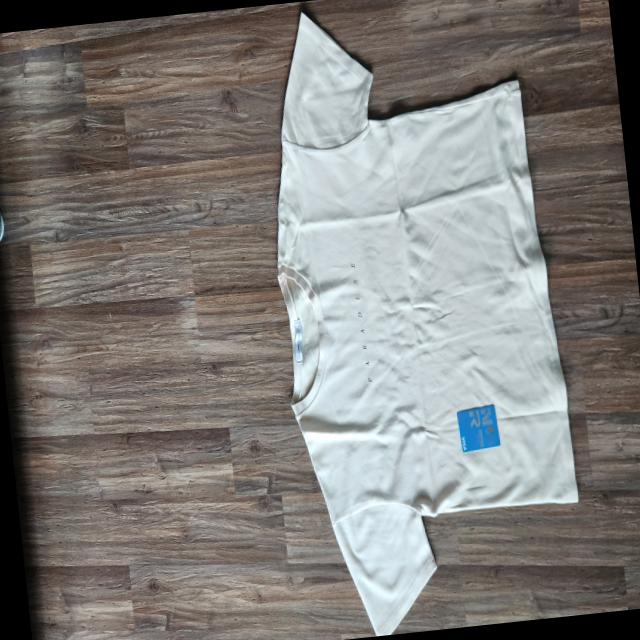card: (456, 402, 500, 452)
